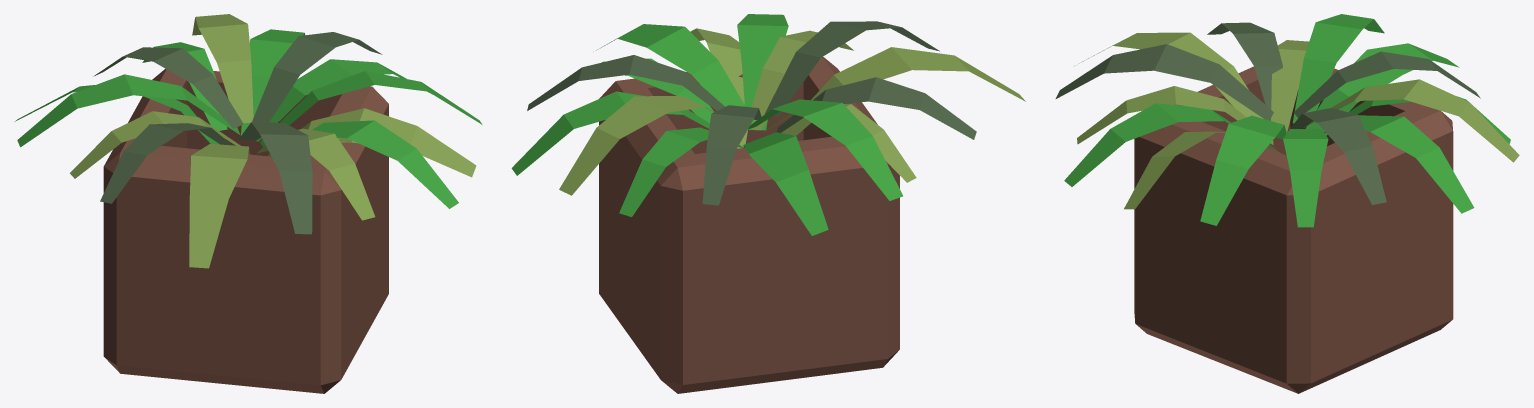
The model's file is vase_1.fbx.
3 views of the same model, side by side, from view 1: azimuth 30°, elevation 25°; view 2: azimuth 150°, elevation 25°; view 3: azimuth 270°, elevation 25° (orthographic). The views are drawn at different scales.
Parts seen in each view (by area): view 1: Plane.028; view 2: Plane.028; view 3: Plane.028.
Part boxes in pixels (bbox=[...]): Plane.028: bbox=[15, 14, 482, 393]; Plane.028: bbox=[511, 14, 1025, 393]; Plane.028: bbox=[1055, 14, 1519, 393].
Bounding box in the file's own units: 110 × 73.14 × 117.
